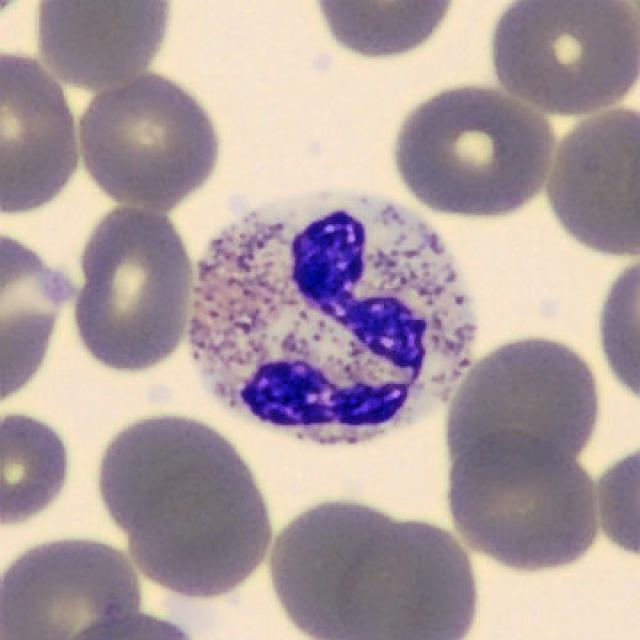Neutrofilo segmentado: (190, 190, 476, 446)
